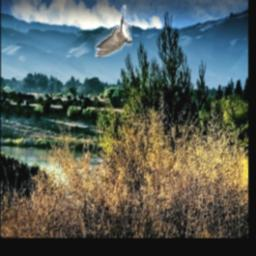Swallow: (96, 5, 133, 57)
